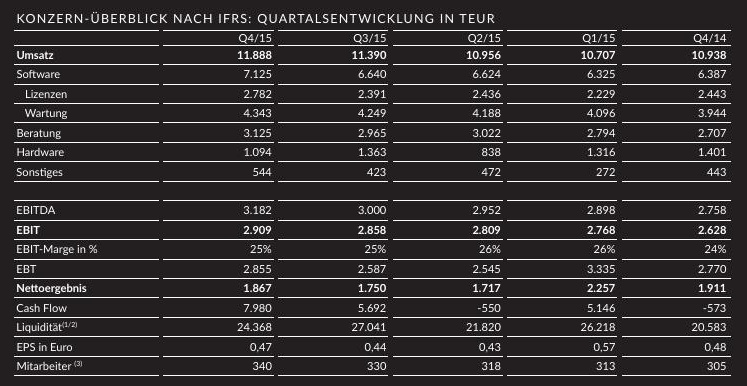table: (0, 0, 747, 386)
